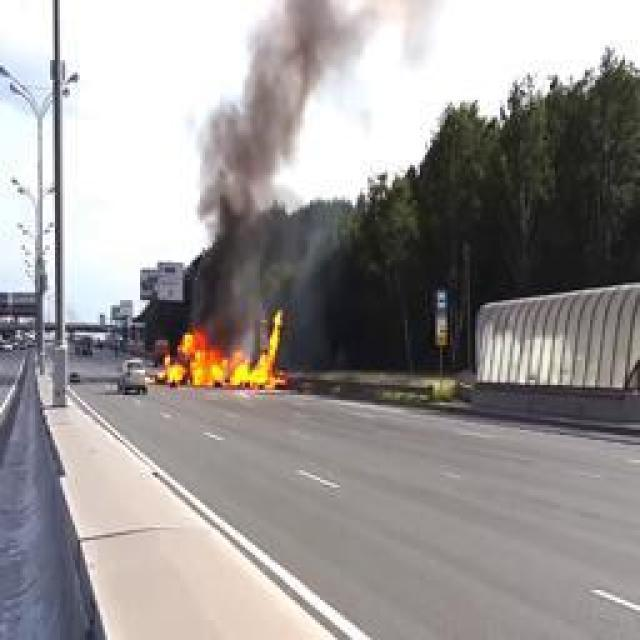Fire: (157, 311, 285, 389)
